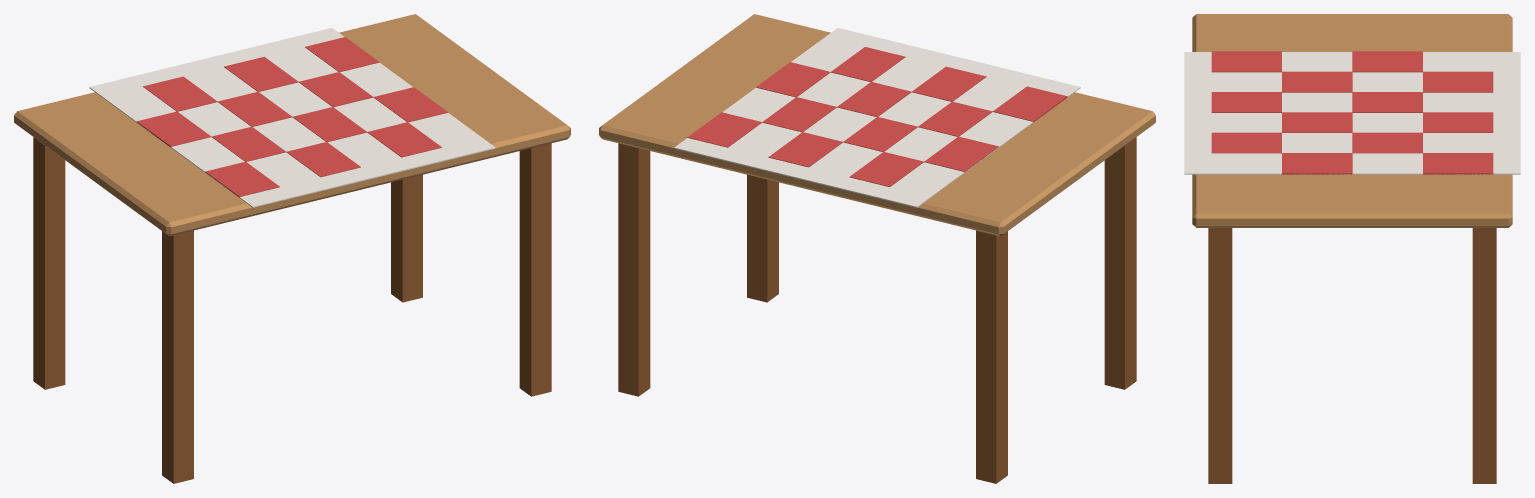
The model's file is kitchenTable.fbx.
The picture shows the model from 3 angles, left to right: view 1: azimuth 30°, elevation 25°; view 2: azimuth 150°, elevation 25°; view 3: azimuth 270°, elevation 25°; orthographic projection. The views are drawn at different scales.
Visible parts, largest first — view 1: kitchenTable; view 2: kitchenTable; view 3: kitchenTable.
Part boxes in pixels (box(x1,y1,x2,y2)): kitchenTable: box(14, 14, 570, 483); kitchenTable: box(599, 14, 1155, 483); kitchenTable: box(1184, 14, 1520, 483).
Bounding box in the file's own units: 4.8 × 3.06 × 3.36.
